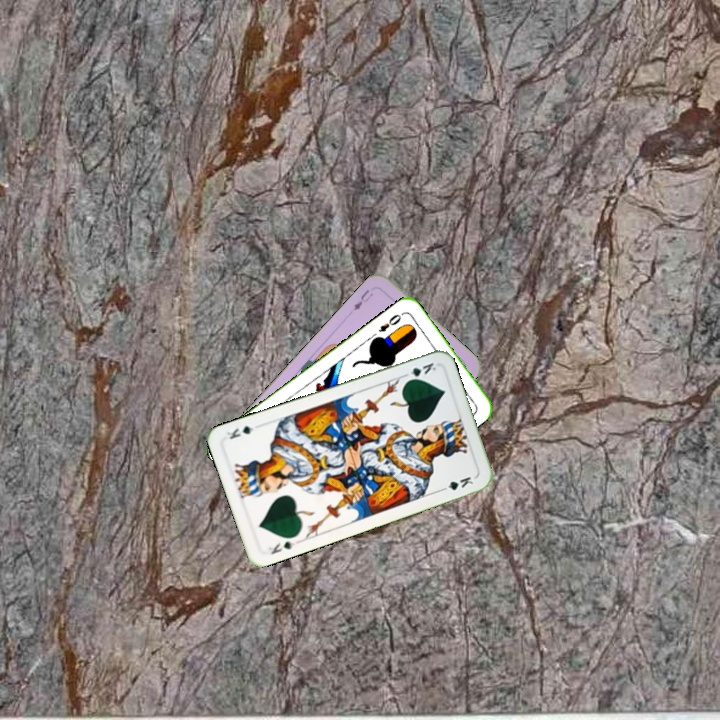EO: (374, 310, 404, 335)
EU: (349, 286, 376, 313)
GK: (399, 358, 439, 384), (265, 537, 297, 557)
